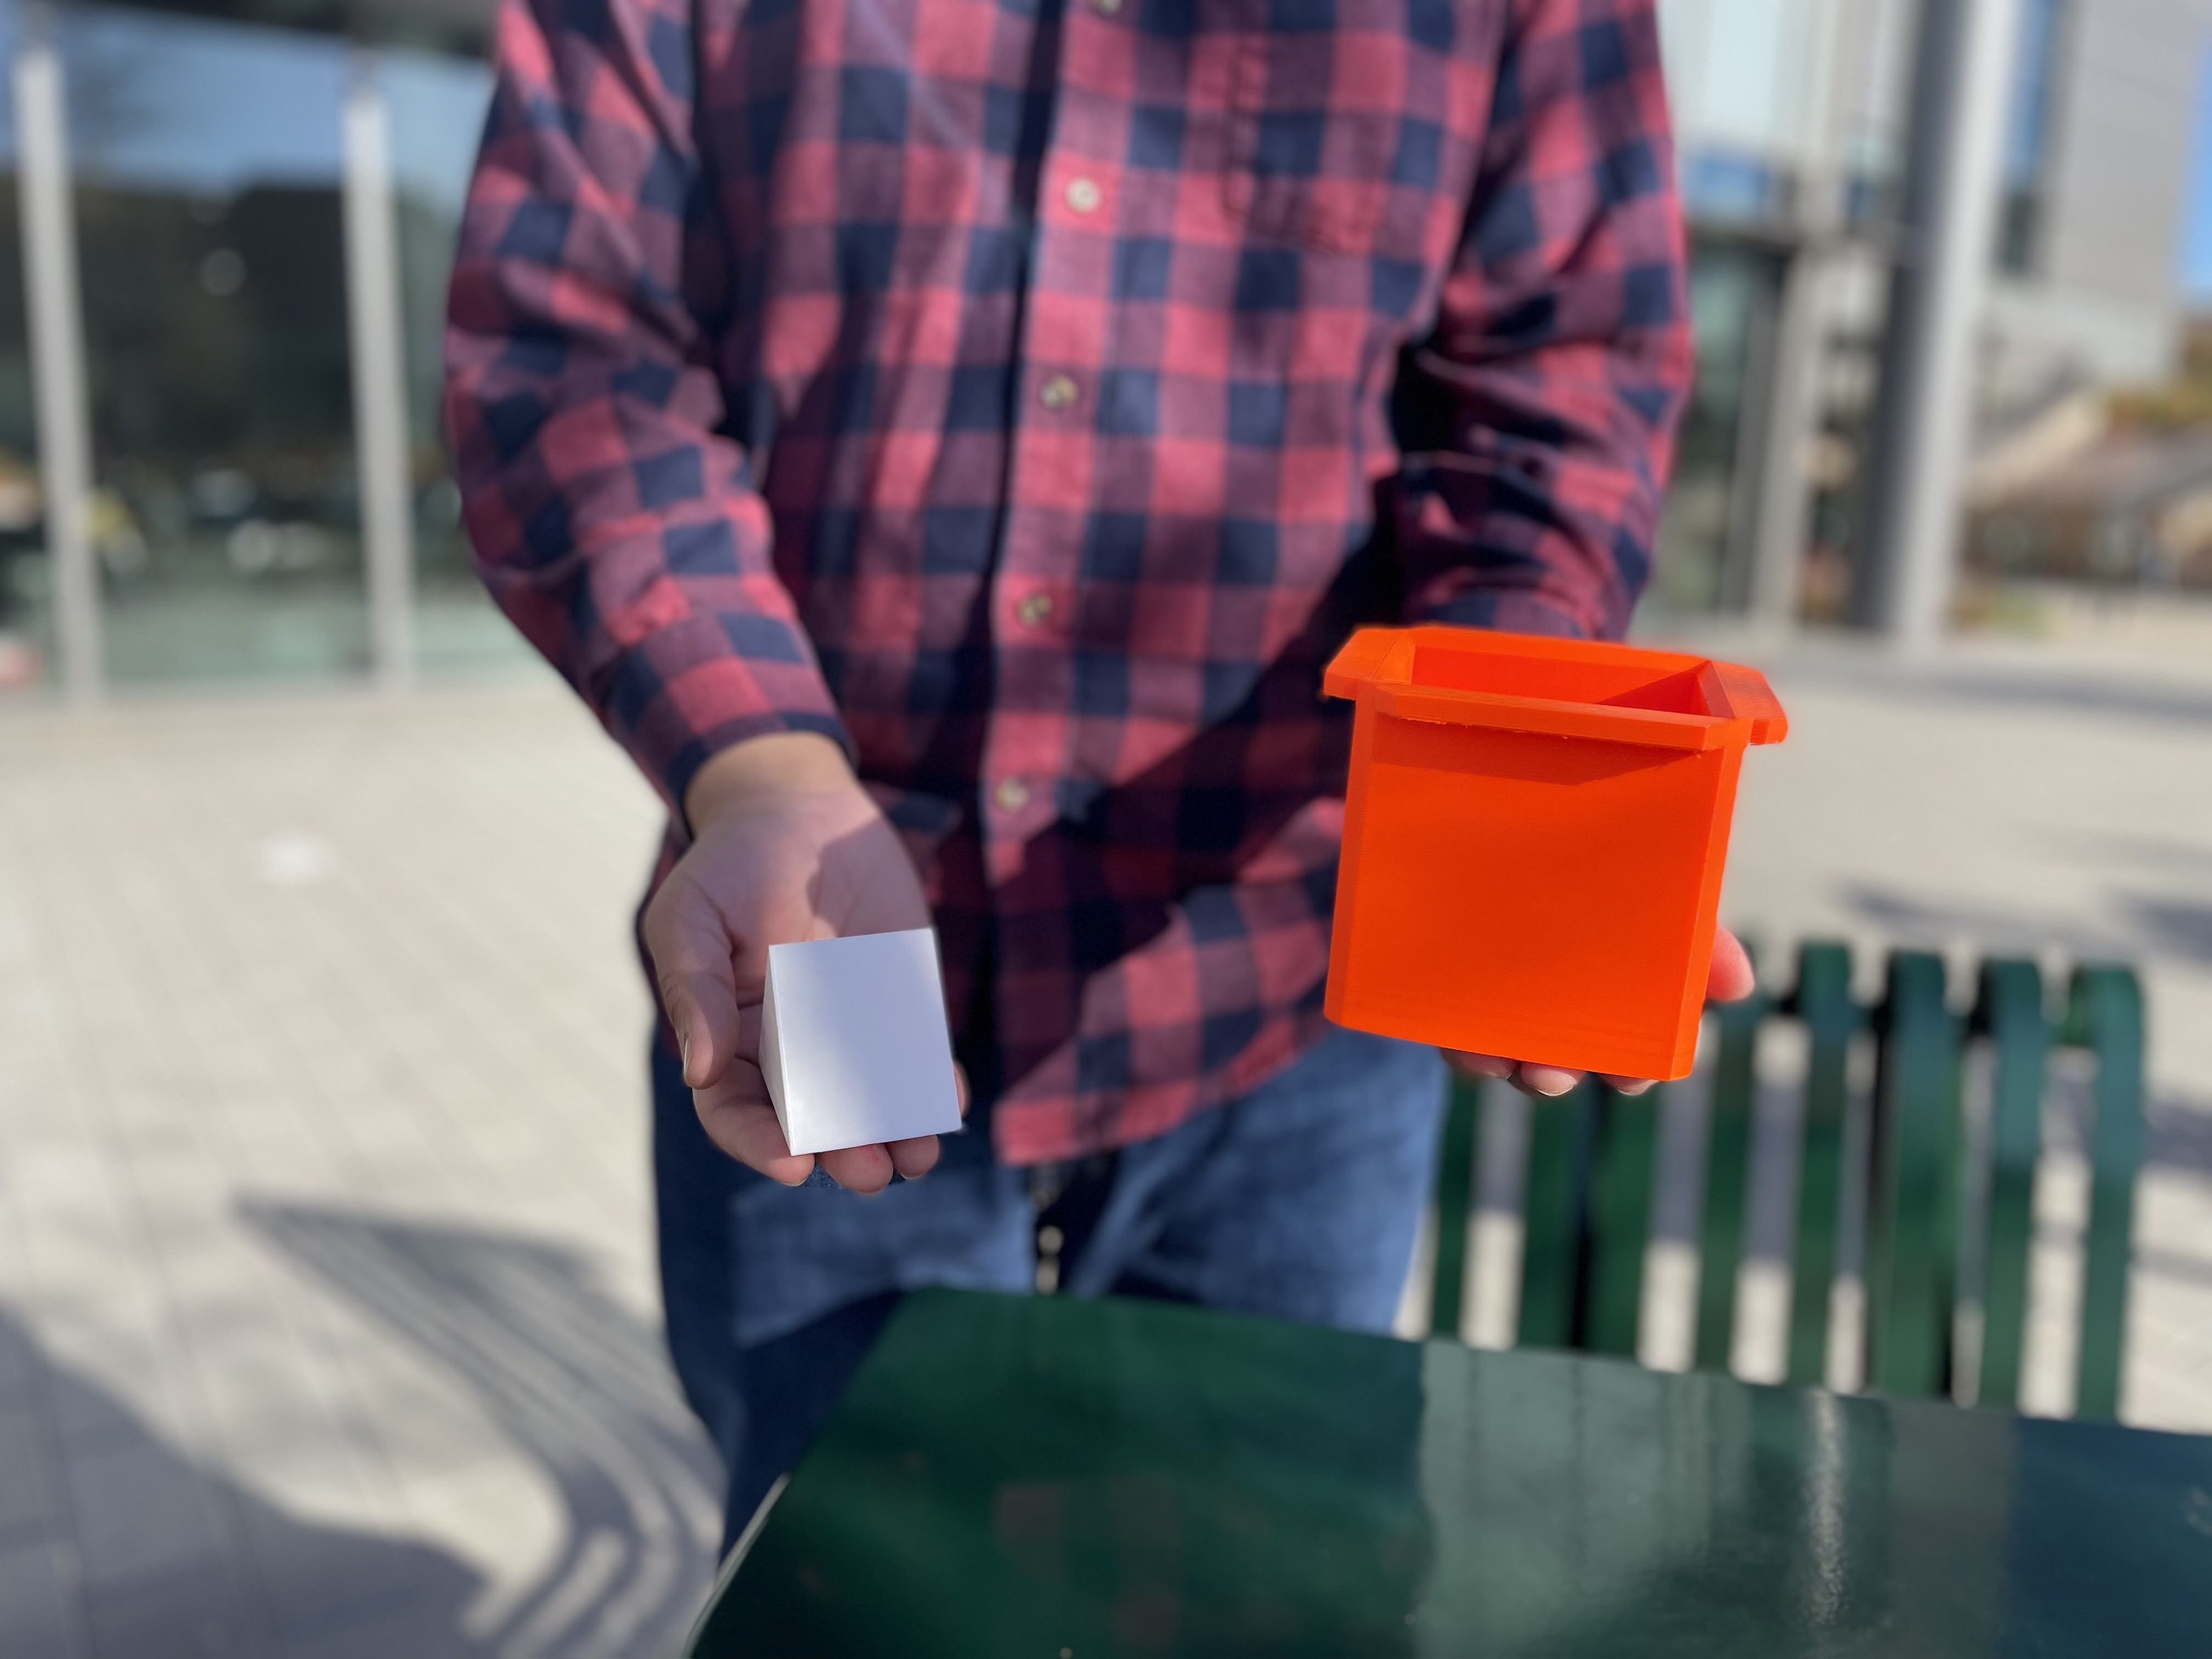payload1: (1303, 619, 1815, 1089)
payload2: (749, 925, 1003, 1166)
